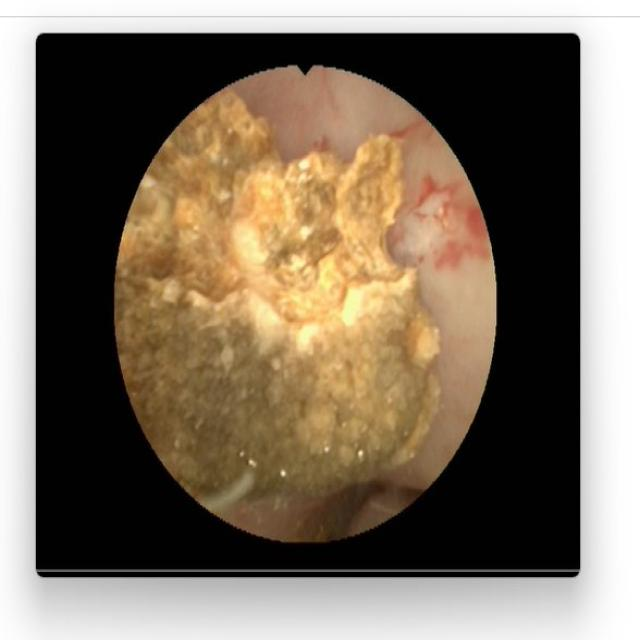stone: (122, 94, 434, 490)
